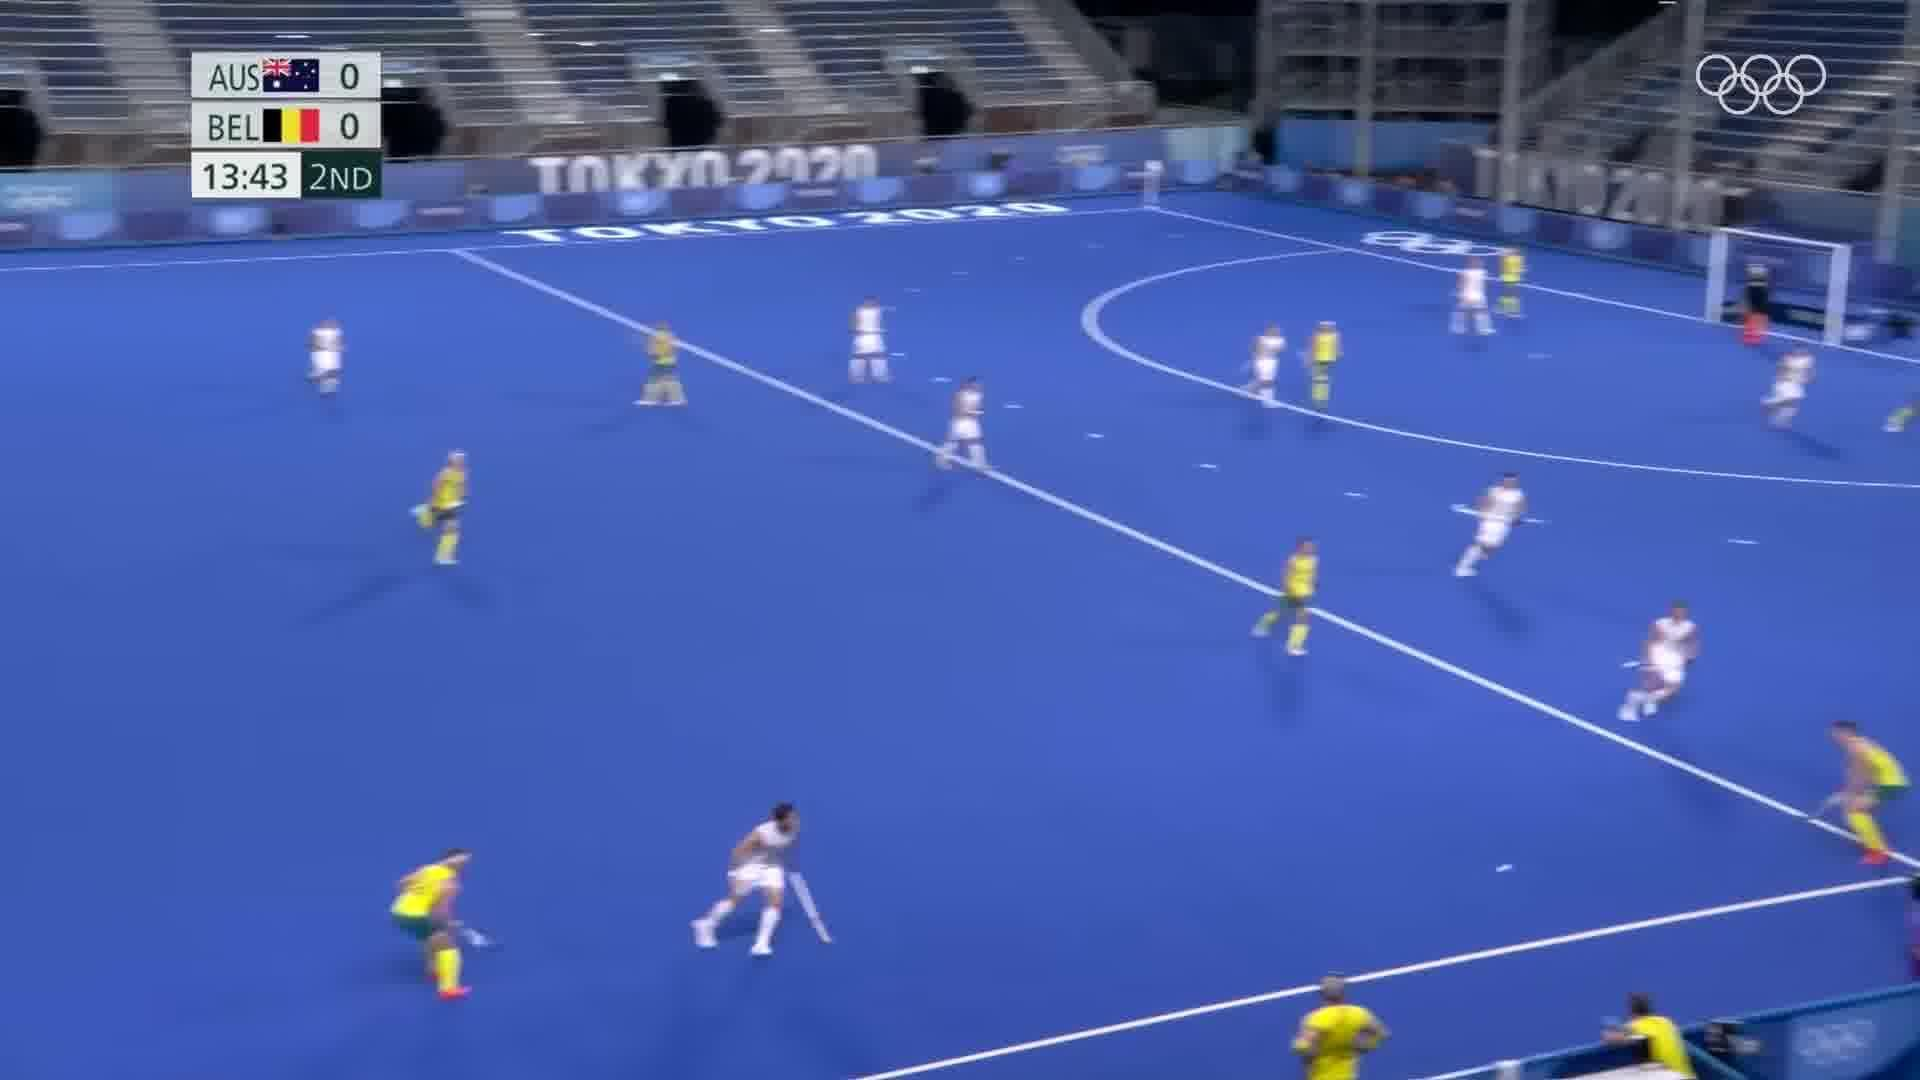ball: (1471, 849, 1536, 881)
